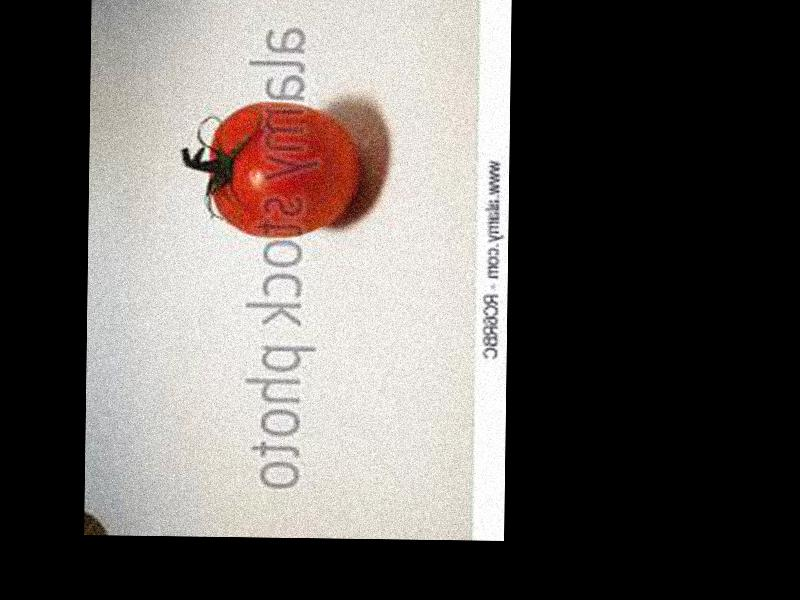Tomato: (206, 101, 359, 239)
